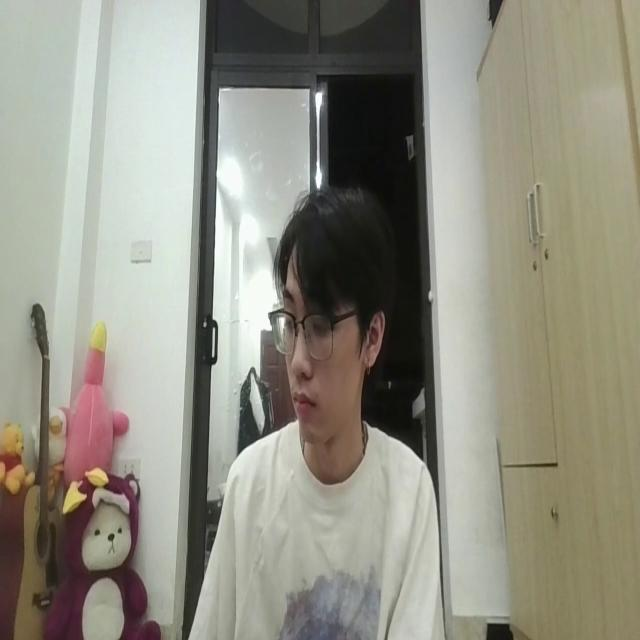student: (175, 182, 439, 640)
